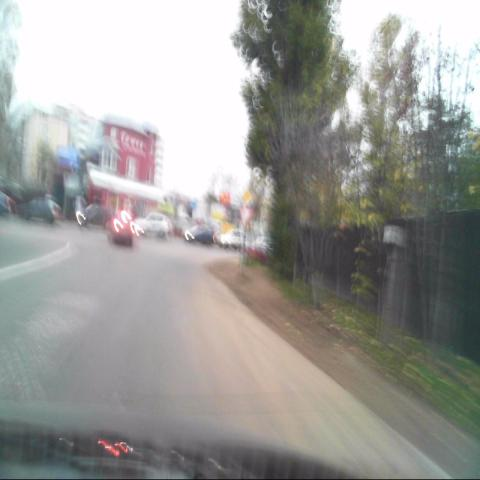2_4: (238, 205, 252, 229)
